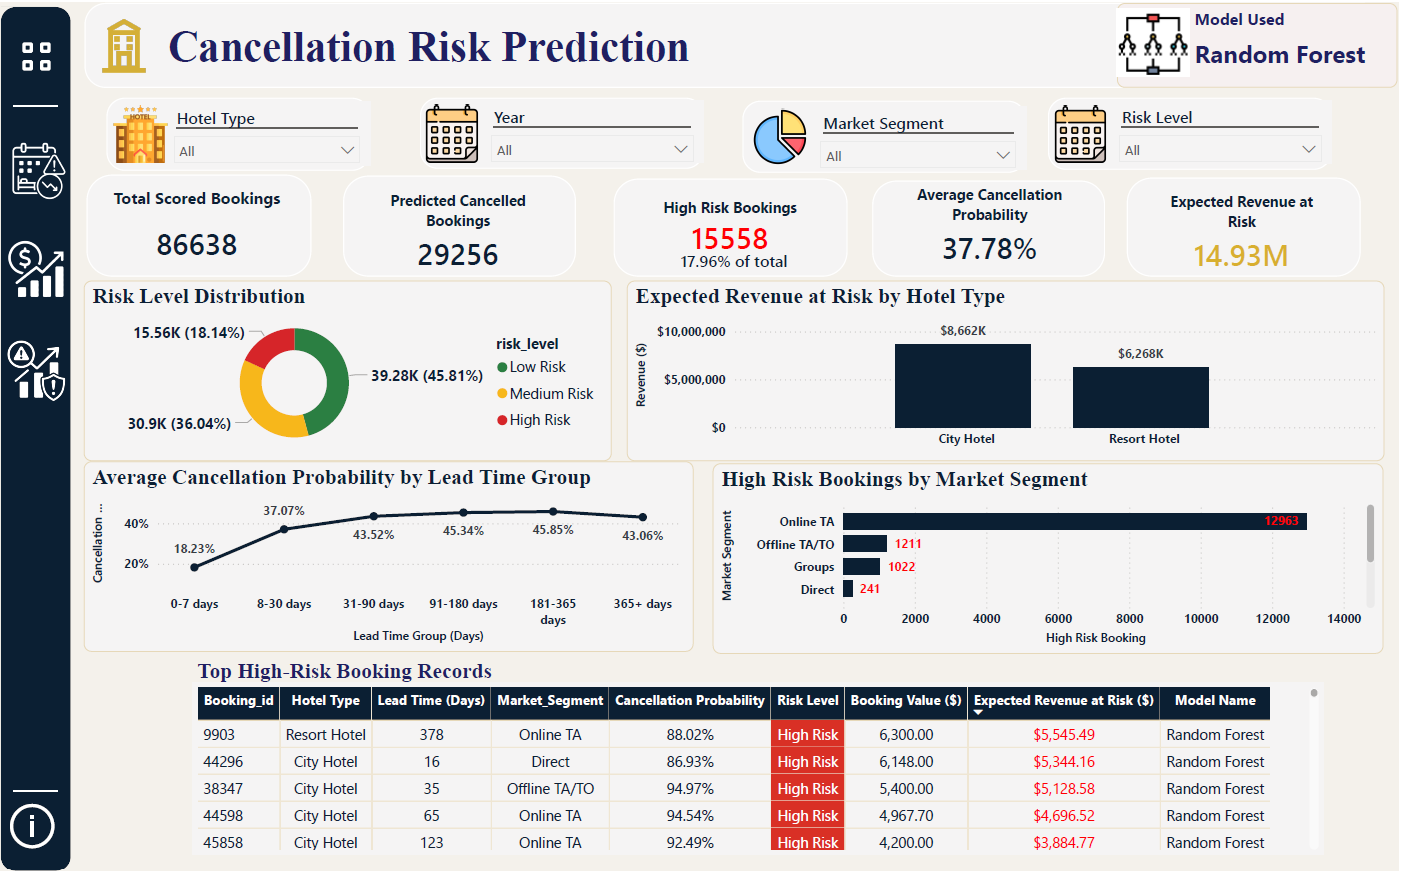

The dashboard page shown, as its layout file describes it:
{"tool":"powerbi","page":{"name":"Booking Cancellation Risk Analysis","canvas":[1400,870],"ordinal":2},"visuals":[{"type":"shape","box":[83.7,0,1303.1,85.2],"z":0},{"type":"image","box":[82.7,5.1,78.9,76.3],"z":1000},{"type":"textbox","box":[161.8,13.9,956.8,79.5],"z":2000},{"type":"shape","box":[0,5.8,70,864.5],"z":3000},{"type":"actionButton","box":[4.4,800.3,61.2,56.9],"z":4000},{"type":"image","box":[0,25.3,70,56.7],"z":5000},{"type":"image","box":[0,125,70,56],"z":6000},{"type":"image","box":[0,225,70,56],"z":7000},{"type":"image","box":[0,325,70,56],"z":8000},{"type":"image","box":[0,425,70,56],"z":9000},{"type":"shape","box":[13.3,82,43.4,43.4],"z":10000},{"type":"shape","box":[13.1,763.9,42.3,43.7],"z":11000},{"type":"shape","box":[107.1,95.3,368,72.4],"z":12000},{"type":"slicer","fields":{"Values":["public dim_hotel.hotel"]},"box":[162.6,98.9,307.6,63.9],"z":13000},{"type":"image","box":[107.1,102.5,65.1,57.9],"z":14000},{"type":"shape","box":[530.2,94.6,368,72.4],"z":15000},{"type":"slicer","fields":{"Values":["public dim_date.year"]},"box":[591.3,98.1,307.2,63.5],"z":16000},{"type":"image","box":[530.2,101.9,65.1,57.9],"z":17000},{"type":"shape","box":[958.5,90.7,395.8,72],"z":18000},{"type":"slicer","fields":{"Values":["public dim_hotel.hotel"]},"box":[1037.6,99.3,316.6,63.3],"z":19000},{"type":"image","box":[972.9,103.6,64.8,57.6],"z":20000},{"type":"shape","box":[82.8,173.8,233.6,116.8],"z":21000},{"type":"cardVisual","fields":{"Data":["fact_bookings.Total Bookings"]},"box":[89.6,180.6,221.4,100.5],"z":22000},{"type":"cardVisual","fields":{"Data":["fact_bookings.Total Bookings vs LY Label"]},"box":[127.7,232.2,183.4,65.2],"z":23000},{"type":"textbox","box":[139.9,254,48.9,36.7],"z":24000},{"type":"shape","box":[333.3,175.2,233.6,116.8],"z":25000},{"type":"cardVisual","fields":{"Data":["measure.Cancelled Bookings"]},"box":[340.1,182,221.4,100.5],"z":26000},{"type":"cardVisual","fields":{"Data":["measure.Cancelled Bookings vs LY Label"]},"box":[378.3,231.5,183.6,65.5],"z":27000},{"type":"textbox","box":[390.4,255.3,48.9,36.7],"z":28000},{"type":"shape","box":[575,175,233.6,116.8],"z":29000},{"type":"cardVisual","fields":{"Data":["measure.Cancellation Rate"]},"box":[581.8,181.8,221.4,100.5],"z":30000},{"type":"cardVisual","fields":{"Data":["measure.Average ADR vs LY Label"]},"box":[905.4,233.5,183.4,65.2],"z":31000},{"type":"textbox","box":[632.1,255.1,48.9,36.7],"z":32000},{"type":"shape","box":[819.2,178.2,237.5,107.9],"z":33000},{"type":"cardVisual","fields":{"Data":["measure.Estimated Revenue Lost"]},"box":[803.3,178.2,270.6,100.7],"z":34000},{"type":"cardVisual","fields":{"Data":["measure.Estimated Revenue Lost vs LY Label"]},"box":[881,234.6,183.8,64.3],"z":35000},{"type":"textbox","box":[888.4,256.9,48.9,36.7],"z":36000},{"type":"lineClusteredColumnComboChart","title":"Cancellation Rate by Lead Time Group","fields":{"Category":["fact_bookings.Lead Time Group"],"Y":["measure.Cancellation Rate"],"Y2":["measure.Cancellation Rate1"]},"box":[83.1,297.4,647.3,244.9],"z":37000},{"type":"cardVisual","fields":{"Data":["measure.Cancellation Rate vs LY Label"]},"box":[638.4,233.4,184.1,64.2],"z":38000},{"type":"shape","box":[1073.6,179.9,280.6,105.1],"z":39000},{"type":"cardVisual","fields":{"Data":["measure.Highest Revenue Lost Month Label"]},"box":[1056.3,179.9,302.2,99.3],"z":40000},{"type":"clusteredBarChart","title":"Cancellation Rate by Lead Time Group","fields":{"Category":["dim_market_segment.market_segment"],"Y":["measure.Cancellation Rate"]},"box":[740.6,295.9,645.8,246.4],"z":41000},{"type":"columnChart","title":"Cancellation Rate by Customer Type","fields":{"Category":["dim_customer_segment.customer_type"],"Y":["measure.Cancellation Rate"]},"box":[1019,549.6,367.4,265.3],"z":42000},{"type":"textbox","box":[83.1,823.6,1051.1,43.7],"z":43000},{"type":"shape","box":[537.9,829.5,43.7,32.1],"z":44000},{"type":"actionButton","box":[90.4,825.1,37.9,40.8],"z":45000},{"type":"lineChart","title":"Cancelled Bookings by Month","fields":{"Category":["dim_date.month_short"],"Y":["measure.Cancelled Bookings Resort Hotel","measure.Cancelled Bookings City Hotel","measure.Total Cancelled Bookings"]},"box":[88.9,549.6,454.8,265.3],"z":46000},{"type":"lineChart","title":"Estimated Revenue Lost by Month","fields":{"Category":["dim_date.month_short"],"Y":["measure.Estimated Revenue Lost Resort Hotel","measure.Estimated Revenue Lost City Hotel","measure.Total Estimated Revenue Lost"]},"box":[551,549.6,467.9,265.3],"z":47000}]}

Visuals, with their boxes on the page's 1400x870 design canvas (x1, y1, x2, y2). These are canvas units, not pixel positions in the 1401x872 screenshot, which may show the page scaled, cropped or inside an application window:
shape: box=[84, 0, 1387, 85]
image: box=[83, 5, 162, 81]
textbox: box=[162, 14, 1119, 93]
shape: box=[0, 6, 70, 870]
actionButton: box=[4, 800, 66, 857]
image: box=[0, 25, 70, 82]
image: box=[0, 125, 70, 181]
image: box=[0, 225, 70, 281]
image: box=[0, 325, 70, 381]
image: box=[0, 425, 70, 481]
shape: box=[13, 82, 57, 125]
shape: box=[13, 764, 55, 808]
shape: box=[107, 95, 475, 168]
slicer - public dim_hotel.hotel: box=[163, 99, 470, 163]
image: box=[107, 102, 172, 160]
shape: box=[530, 95, 898, 167]
slicer - public dim_date.year: box=[591, 98, 898, 162]
image: box=[530, 102, 595, 160]
shape: box=[958, 91, 1354, 163]
slicer - public dim_hotel.hotel: box=[1038, 99, 1354, 163]
image: box=[973, 104, 1038, 161]
shape: box=[83, 174, 316, 291]
cardVisual - fact_bookings.Total Bookings: box=[90, 181, 311, 281]
cardVisual - fact_bookings.Total Bookings vs LY Label: box=[128, 232, 311, 297]
textbox: box=[140, 254, 189, 291]
shape: box=[333, 175, 567, 292]
cardVisual - measure.Cancelled Bookings: box=[340, 182, 562, 282]
cardVisual - measure.Cancelled Bookings vs LY Label: box=[378, 232, 562, 297]
textbox: box=[390, 255, 439, 292]
shape: box=[575, 175, 809, 292]
cardVisual - measure.Cancellation Rate: box=[582, 182, 803, 282]
cardVisual - measure.Average ADR vs LY Label: box=[905, 234, 1089, 299]
textbox: box=[632, 255, 681, 292]
shape: box=[819, 178, 1057, 286]
cardVisual - measure.Estimated Revenue Lost: box=[803, 178, 1074, 279]
cardVisual - measure.Estimated Revenue Lost vs LY Label: box=[881, 235, 1065, 299]
textbox: box=[888, 257, 937, 294]
"Cancellation Rate by Lead Time Group" lineClusteredColumnComboChart: box=[83, 297, 730, 542]
cardVisual - measure.Cancellation Rate vs LY Label: box=[638, 233, 822, 298]
shape: box=[1074, 180, 1354, 285]
cardVisual - measure.Highest Revenue Lost Month Label: box=[1056, 180, 1358, 279]
"Cancellation Rate by Lead Time Group" clusteredBarChart: box=[741, 296, 1386, 542]
"Cancellation Rate by Customer Type" columnChart: box=[1019, 550, 1386, 815]
textbox: box=[83, 824, 1134, 867]
shape: box=[538, 830, 582, 862]
actionButton: box=[90, 825, 128, 866]
"Cancelled Bookings by Month" lineChart: box=[89, 550, 544, 815]
"Estimated Revenue Lost by Month" lineChart: box=[551, 550, 1019, 815]
